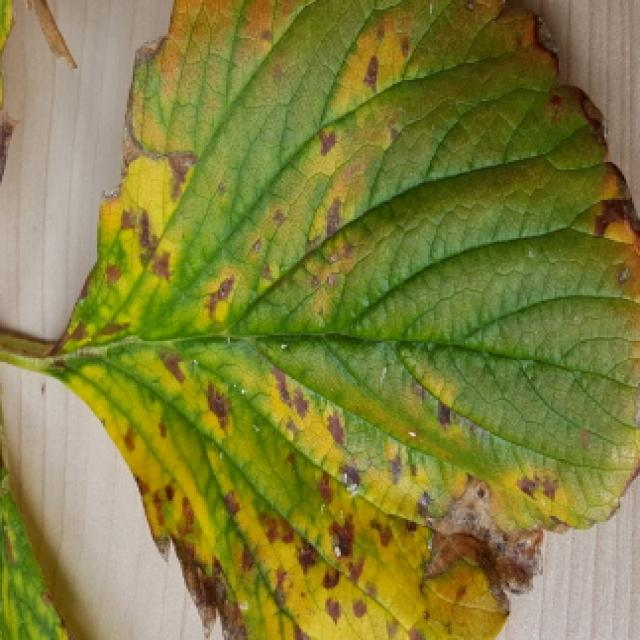Angular Leafspot: (40, 0, 640, 640)
